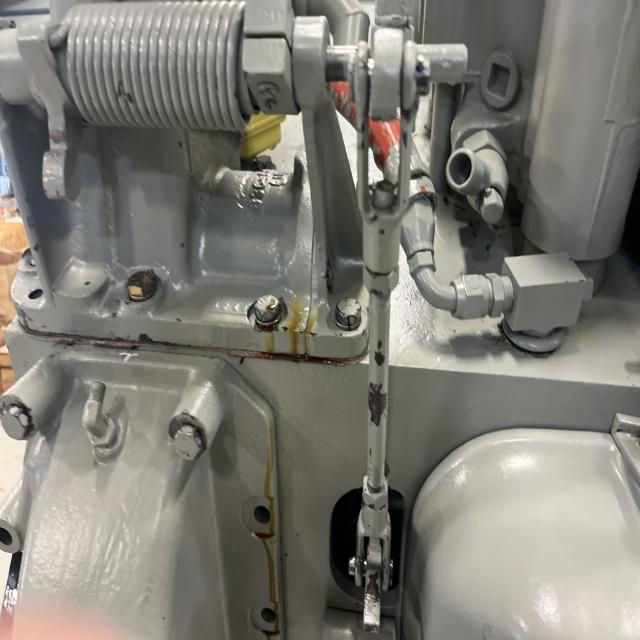Oil Leak: (235, 411, 285, 639), (248, 291, 321, 360)
